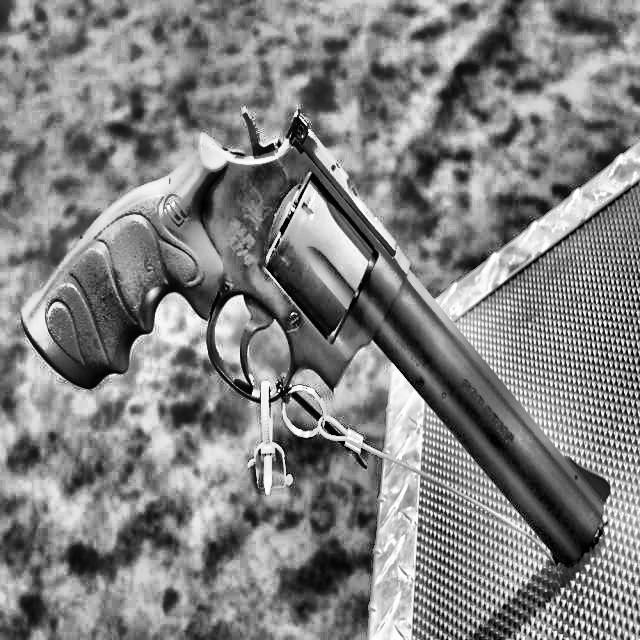pistol: (19, 91, 614, 575)
